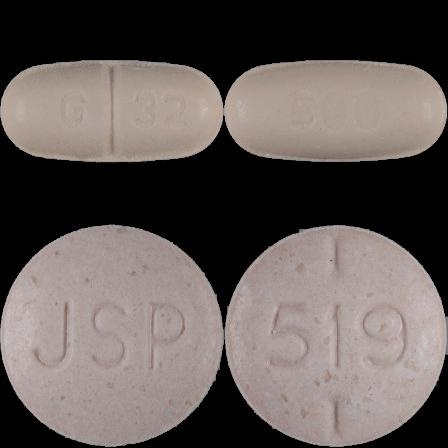68788-9151: (0, 0, 224, 224)
